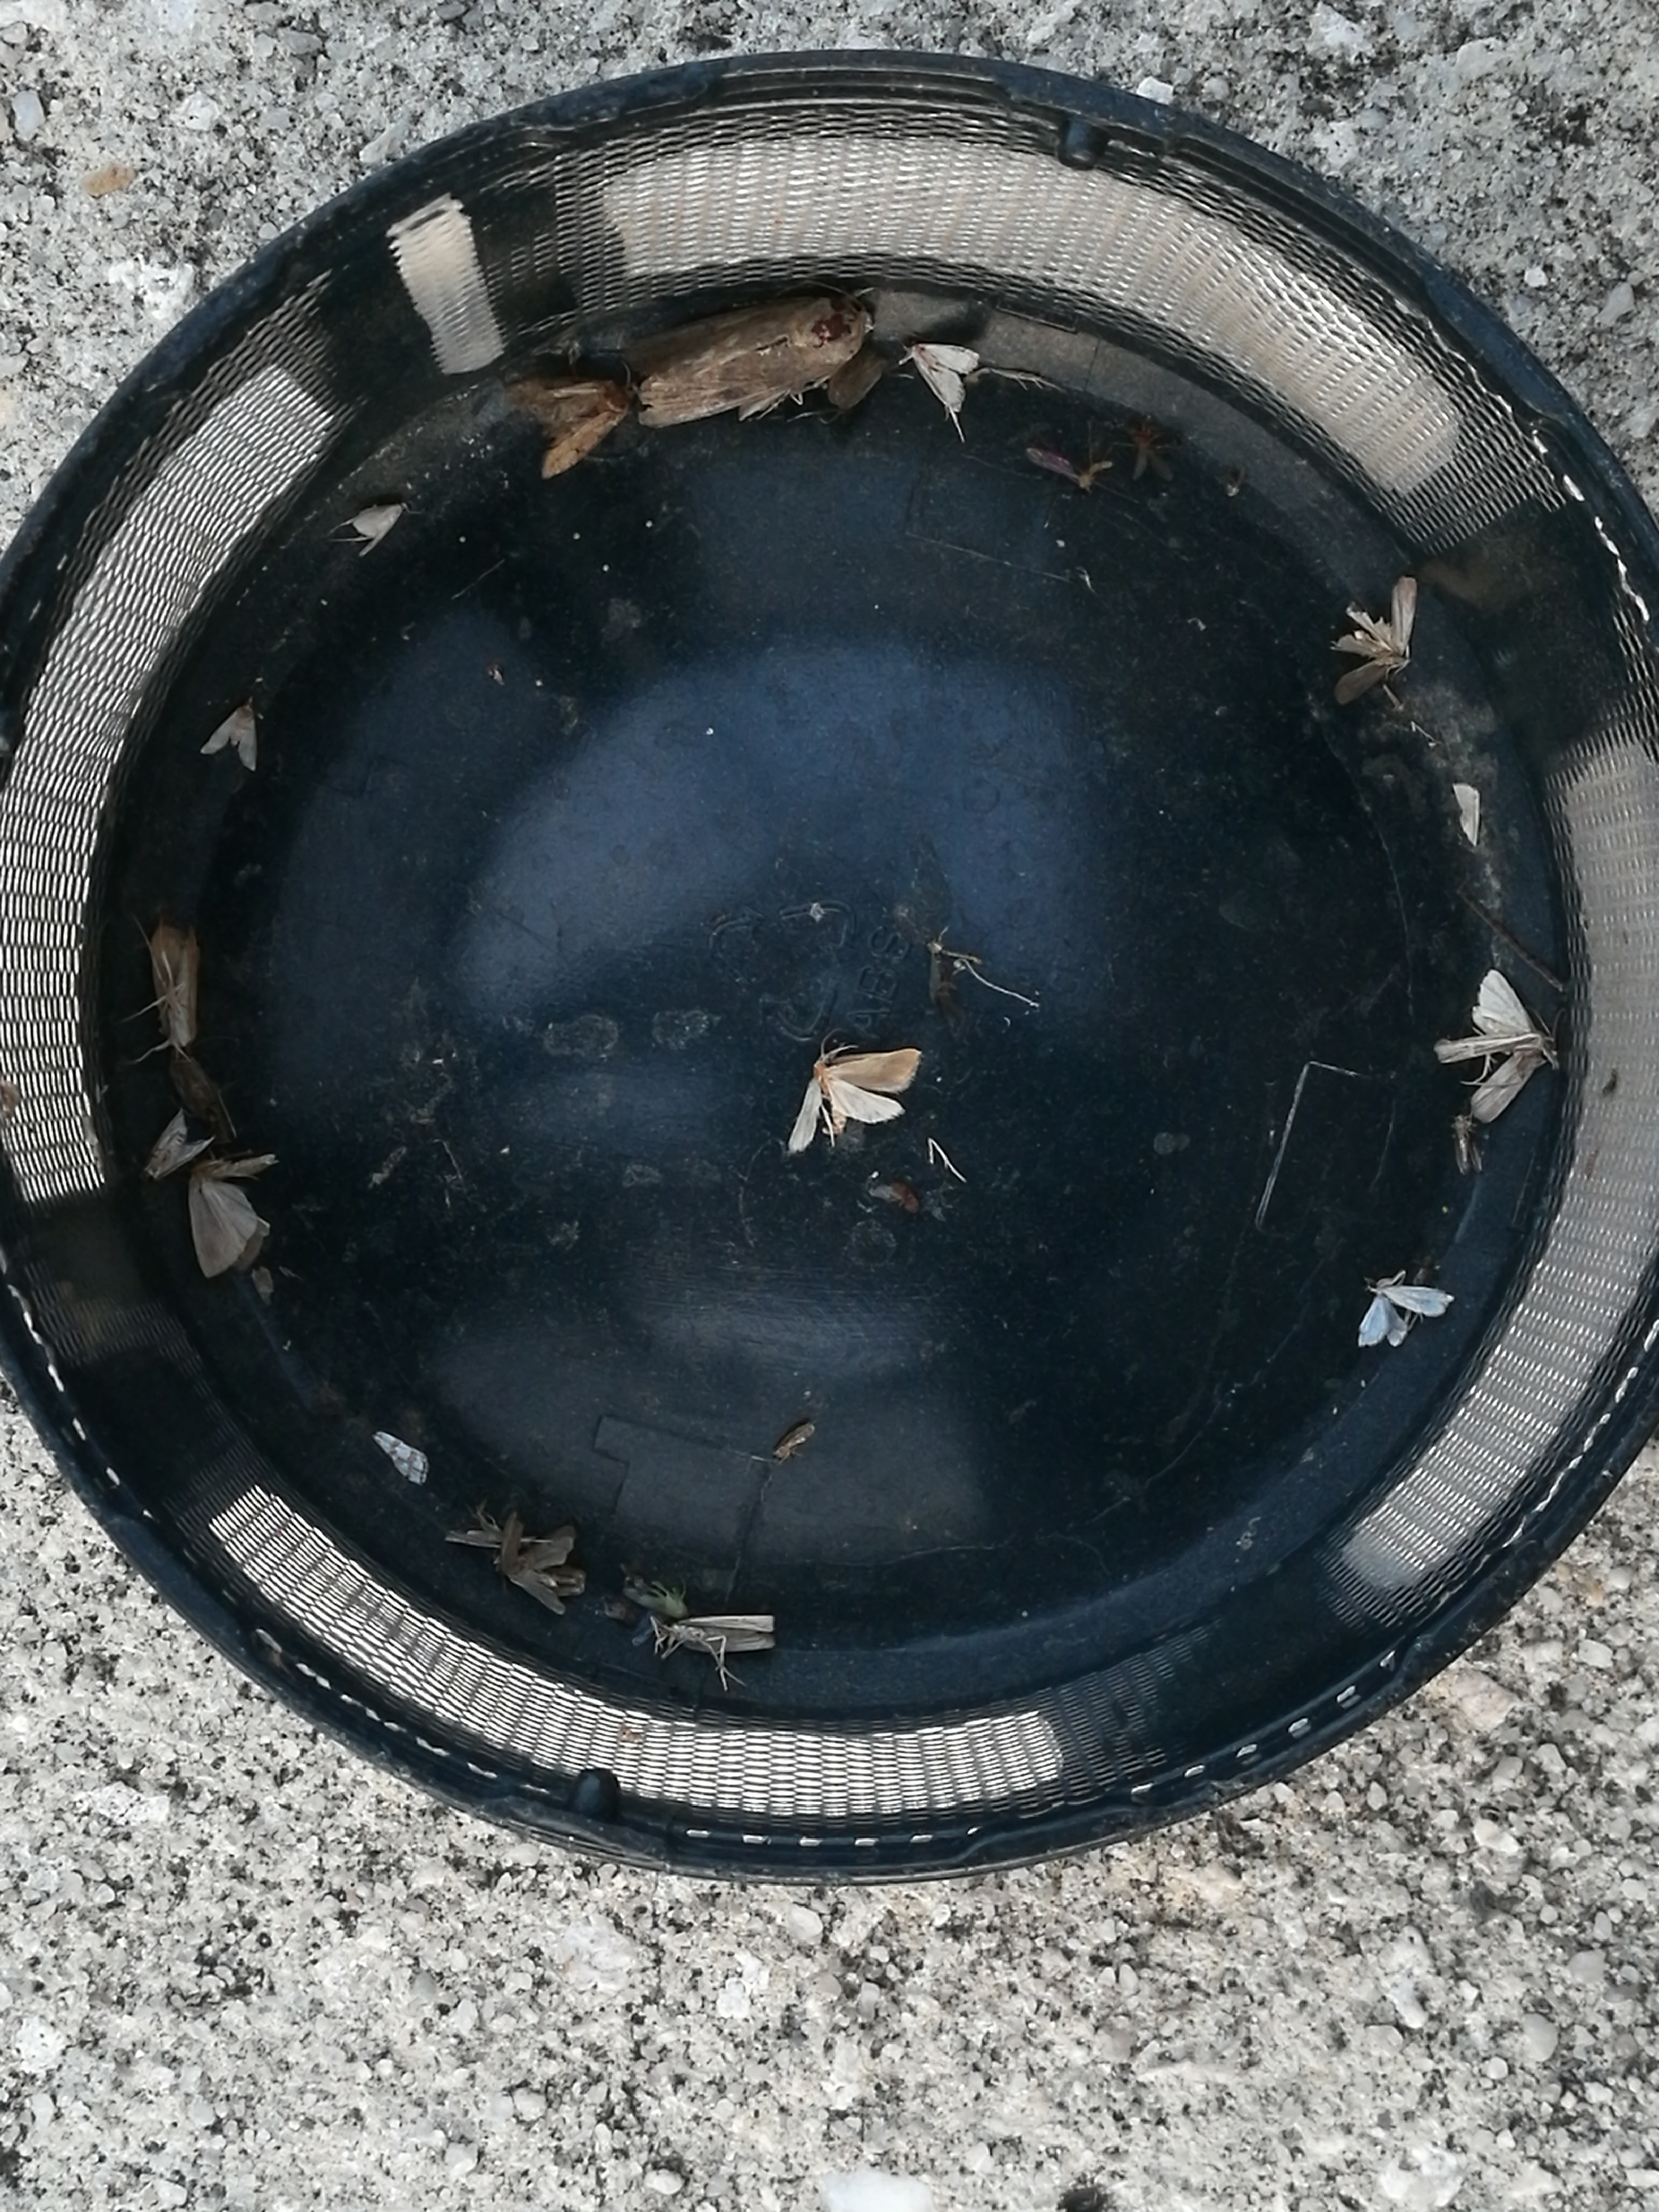mosquito: (153, 925, 197, 1045), (667, 1616, 774, 1649), (626, 1587, 687, 1616)
moth: (631, 296, 863, 425), (1438, 968, 1553, 1120), (793, 1050, 920, 1155), (505, 380, 629, 479), (1335, 578, 1415, 704), (190, 1162, 272, 1277), (502, 1510, 573, 1616), (1359, 1278, 1453, 1346), (141, 1111, 207, 1177), (913, 345, 978, 411), (202, 705, 256, 772), (355, 503, 408, 543)
